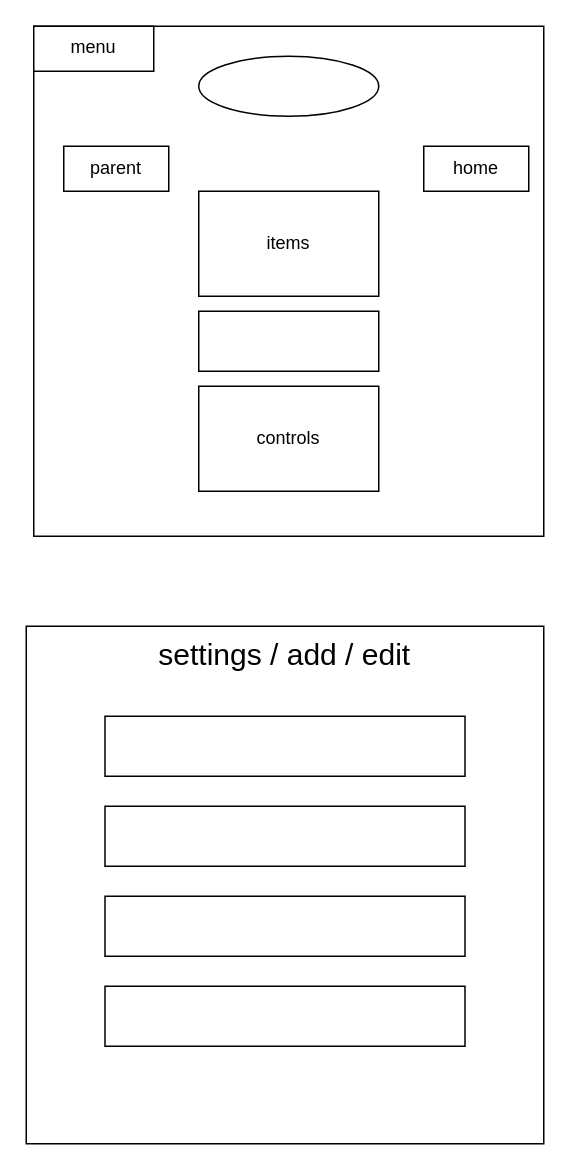
Some shapes in this 570 by 1170 pixel diagram are drawn without their labels. Here are the shapes that lost their labels. From the top down, the centre of each, then its label:
At (x=288, y=85): "logo".
At (x=288, y=340): "info".
